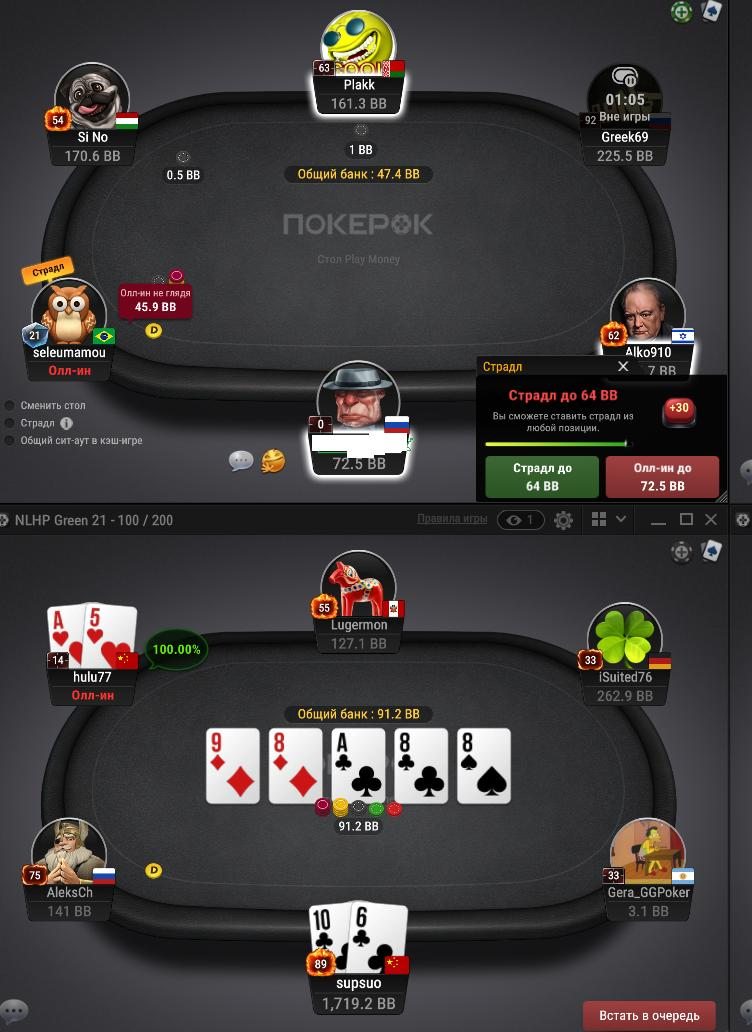10c: (308, 900, 351, 972)
5h: (82, 599, 138, 667)
6c: (349, 898, 408, 974)
8c: (393, 728, 447, 804)
8d: (269, 728, 325, 803)
8s: (458, 727, 511, 804)
9d: (206, 728, 259, 802)
Ac: (331, 728, 386, 803)
Ah: (46, 604, 85, 669)
